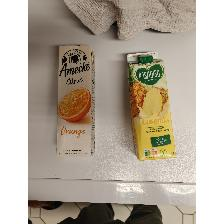Saft: (126, 51, 178, 161), (55, 44, 97, 158)
